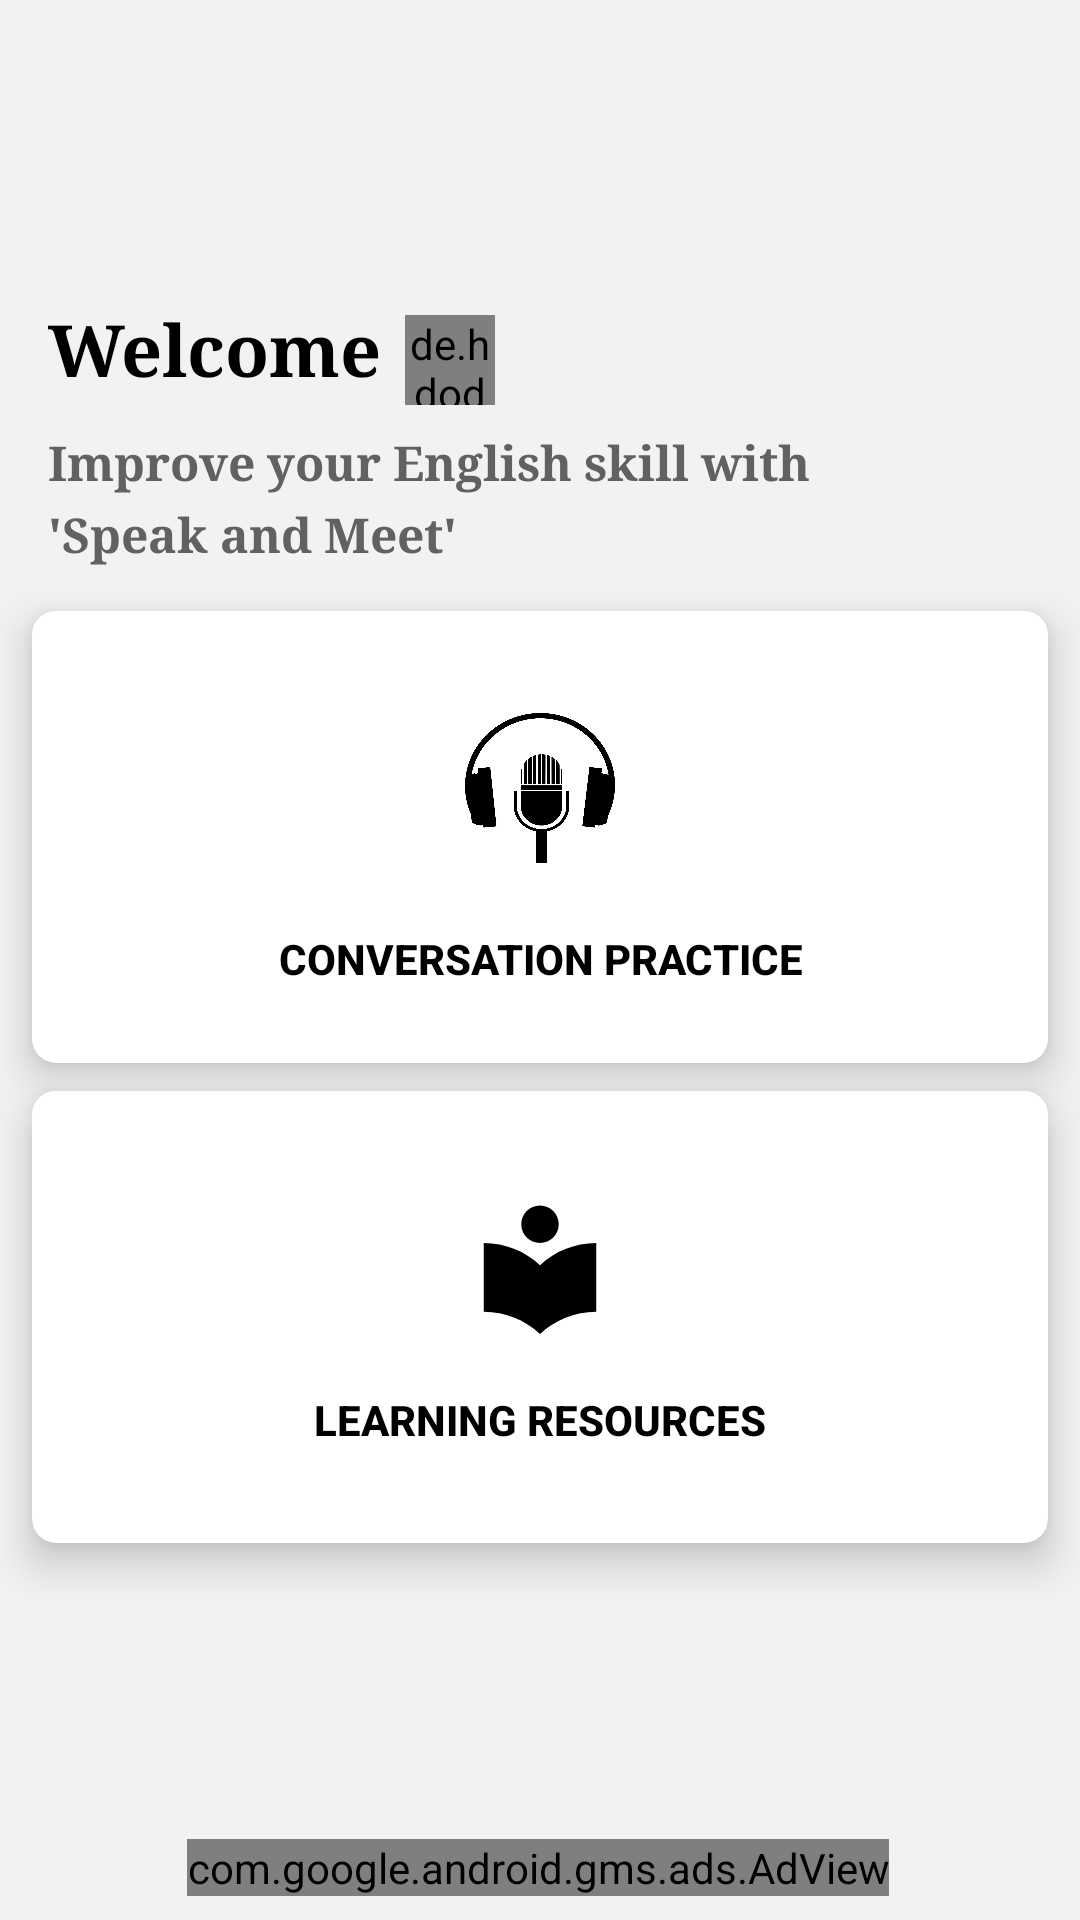

Icons on this 1080w x 1920h Android screen, each with the point to tap as (x,y):
headphones: (540,788)
